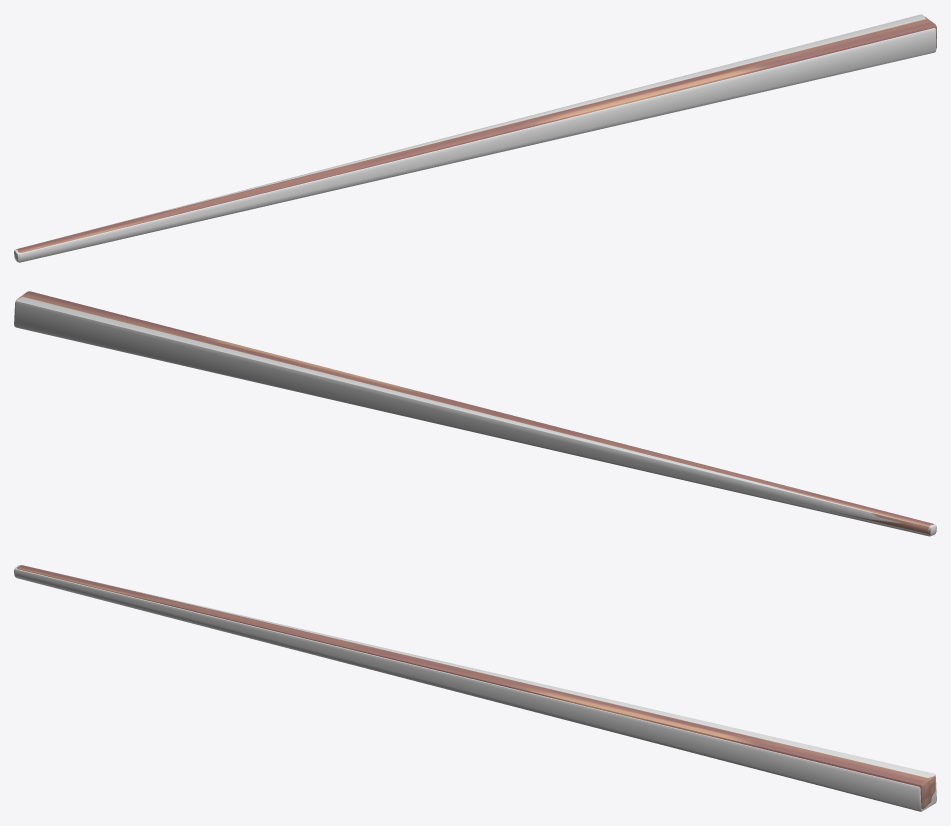
The model's file is chopstick.fbx.
3 views of the same model, one above another, from view 1: azimuth 30°, elevation 25°; view 2: azimuth 150°, elevation 25°; view 3: azimuth 330°, elevation 25° (orthographic).
Visible parts, largest first — view 1: chopstick; view 2: chopstick; view 3: chopstick.
Part boxes in pixels (x1,y1,x2,y2): chopstick: (14,14,936,262); chopstick: (14,291,936,536); chopstick: (14,565,936,811).
Size of the model in its own units: 1.98 by 0.061 by 0.0602.
